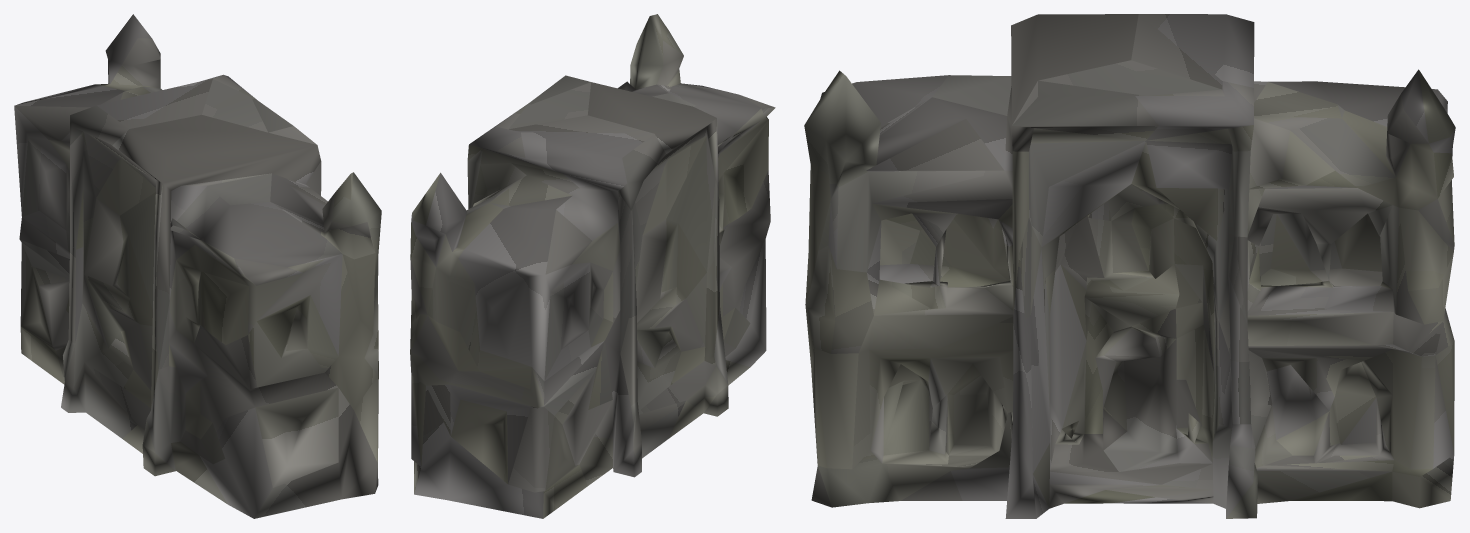
Rendered from house_noble_0_lo.glb.
3 views of the same model, side by side, from view 1: azimuth 30°, elevation 25°; view 2: azimuth 150°, elevation 25°; view 3: azimuth 270°, elevation 25° (orthographic). The views are drawn at different scales.
Visible parts, largest first — view 1: tripo_node_292aeb95-5a95-431a-9e95-e4d1b807b511; view 2: tripo_node_292aeb95-5a95-431a-9e95-e4d1b807b511; view 3: tripo_node_292aeb95-5a95-431a-9e95-e4d1b807b511.
Boxes of the visible parts, x1=… form: tripo_node_292aeb95-5a95-431a-9e95-e4d1b807b511: x1=14, y1=14, x2=381, y2=518; tripo_node_292aeb95-5a95-431a-9e95-e4d1b807b511: x1=410, y1=14, x2=775, y2=518; tripo_node_292aeb95-5a95-431a-9e95-e4d1b807b511: x1=804, y1=14, x2=1455, y2=518.
Bounding box in the file's own units: 0.4051 × 0.6966 × 0.974.
1 material, 1 textured.
